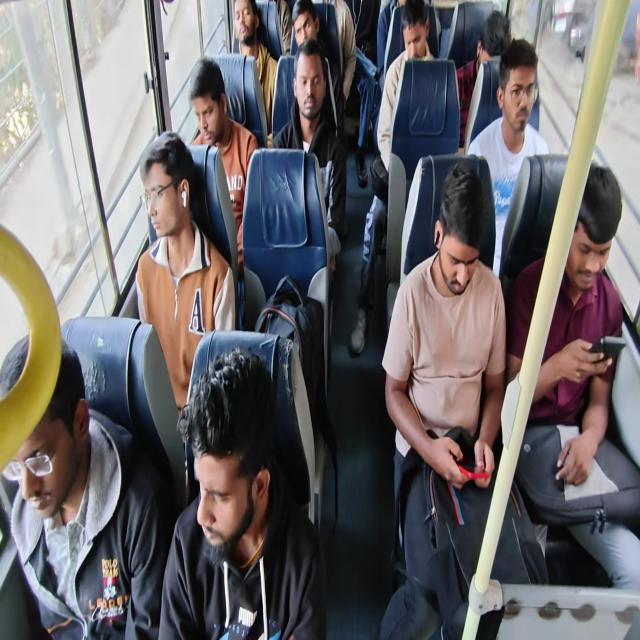person: (183, 342, 271, 554), (2, 330, 99, 520), (425, 164, 476, 303), (560, 168, 614, 296), (136, 142, 198, 250), (185, 59, 224, 147), (503, 57, 537, 136), (473, 5, 510, 70), (394, 10, 430, 70), (292, 45, 322, 114), (290, 1, 321, 56), (235, 7, 255, 47)
